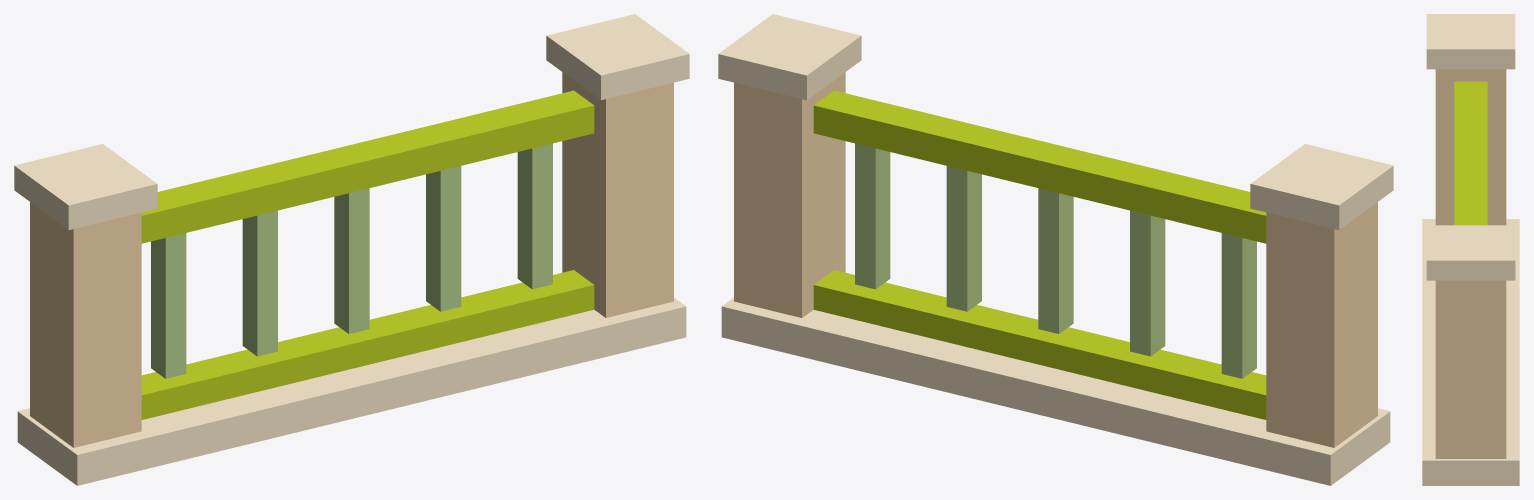
Rendered from Street_Garden_Balustrade.glb.
3 views of the same model, side by side, from view 1: azimuth 30°, elevation 25°; view 2: azimuth 150°, elevation 25°; view 3: azimuth 270°, elevation 25° (orthographic). The views are drawn at different scales.
Parts seen in each view (by area): view 1: Street_Garden_Balustrade; view 2: Street_Garden_Balustrade; view 3: Street_Garden_Balustrade.
Part boxes in pixels (x1,y1,x2,y2): Street_Garden_Balustrade: (14, 14, 689, 485); Street_Garden_Balustrade: (718, 14, 1393, 485); Street_Garden_Balustrade: (1422, 14, 1519, 485).
Size of the model in its own units: 4.2 by 1.81 by 0.7001.
